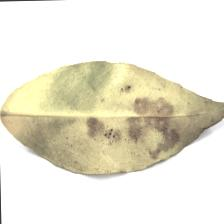black spot: (66, 74, 179, 165)
